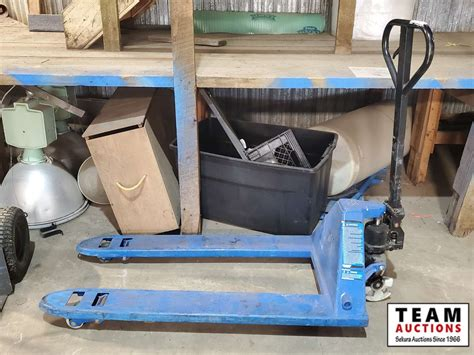Pallet Jack: (39, 18, 436, 330)
